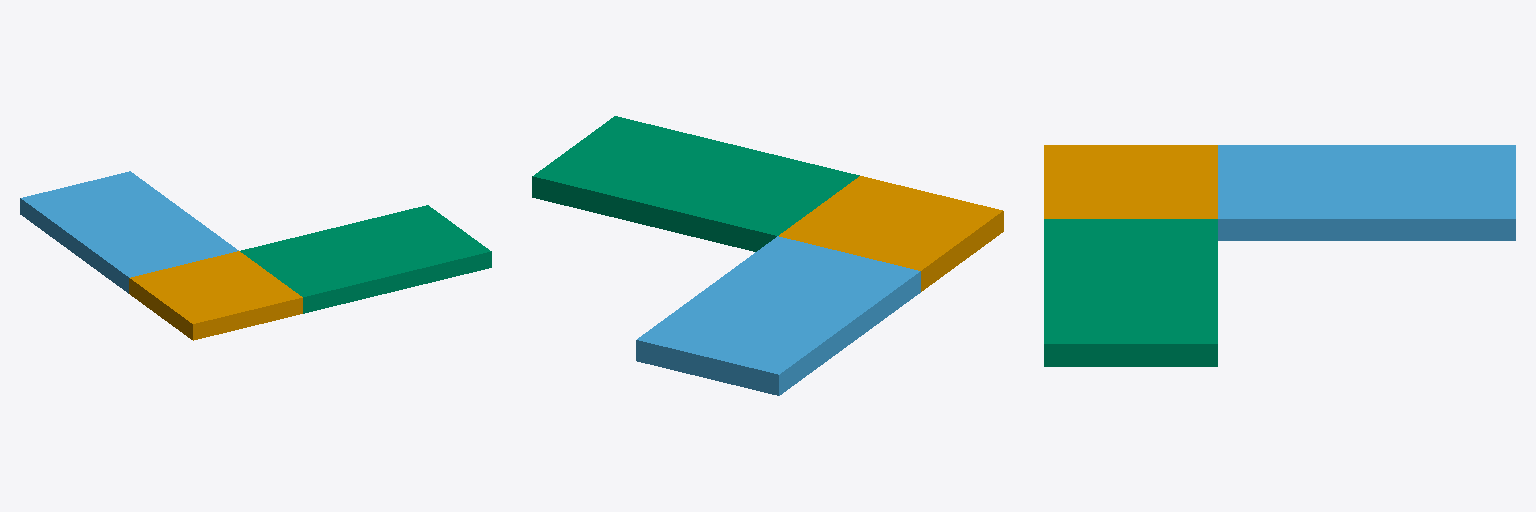
robot.urdf — Lshape/PlanarLshape:
<?xml version="1.0"?>
<robot name="Lshape/PlanarLshape">
 <link name="link1">
  <inertial>
    <mass value="1"/>
    <inertia ixx="0.0416666666667" ixy="0" ixz="0" iyy="0.0816666666667" iyz="0" izz="0.0416666666667"/>
  </inertial>
  <visual>
    <origin rpy="0 0 0" xyz="0 0 0"/>
    <geometry>
      <box size="0.7 0.7 0.1"/>
    </geometry>
  </visual>
  <collision>
    <origin rpy="0 0 0" xyz="0 0 0"/>
    <geometry>
      <box size="0.7 0.7 0.1"/>
    </geometry>
  </collision>
 </link>

 <link name="link2">
  <inertial>
    <mass value="1"/>
    <inertia ixx="0.0416666666667" ixy="0" ixz="0" iyy="0.160833333313" iyz="0" izz="0.120833333313"/>
  </inertial>
  <visual>
    <origin rpy="0 0 0" xyz="0 0.95 0"/>
    <geometry>
      <box size="0.7 1.1999999999 0.1"/>
    </geometry>
  </visual>
  <collision>
    <origin rpy="0 0 0" xyz="0 0.95 0"/>
    <geometry>
      <box size="0.7 1.1999999999 0.1"/>
    </geometry>
  </collision>
 </link>

 <link name="link3">
  <inertial>
    <mass value="1"/>
    <inertia ixx="0.120833333333" ixy="0" ixz="0" iyy="0.160833333333" iyz="0" izz="0.0416666666667"/>
  </inertial>
  <visual>
    <origin rpy="0 0 0" xyz="0.95 0 0"/>
    <geometry>
      <box size="1.2 0.7 0.1"/>
    </geometry>
  </visual>
  <collision>
    <origin rpy="0 0 0" xyz="0.95 0 0"/>
    <geometry>
      <box size="1.2 0.7 0.1"/>
    </geometry>
  </collision>
 </link>

<joint name="joint_link1_link2" type="fixed">
  <origin rpy="0 0 0" xyz="0 0 0"/>
  <parent link="link1"/>
  <child link="link2"/>
</joint>

<joint name="joint_link1_link3" type="fixed">
  <origin rpy="0 0 0" xyz="0 0 0"/>
  <parent link="link1"/>
  <child link="link3"/>
</joint>

  <klampt package_root="../../.." default_acc_max="4" >
  </klampt>
</robot>

--- Render facts (derived) ---
3 views of the same robot in one strip: view 1: azimuth 30°, elevation 25°; view 2: azimuth 150°, elevation 25°; view 3: azimuth 270°, elevation 25° (orthographic).
Model Lshape/PlanarLshape with 3 links and 2 joints (2 fixed), rooted at link1, posed every joint at zero.
Visible links, largest first — view 1: link3, link2, link1; view 2: link2, link3, link1; view 3: link2, link3, link1.
Link boxes in pixels (<box>): link3: <box>240,205,491,313</box>; link2: <box>20,171,238,293</box>; link1: <box>129,251,302,340</box>; link2: <box>636,236,920,395</box>; link3: <box>532,116,859,251</box>; link1: <box>779,176,1003,291</box>; link2: <box>1218,145,1515,240</box>; link3: <box>1044,219,1217,366</box>; link1: <box>1044,145,1217,218</box>.
Bounding box of the posed robot: 1.9 × 1.9 × 0.1 m (x, y, z).
Geometry: primitives only (box / cylinder / sphere), no mesh files.